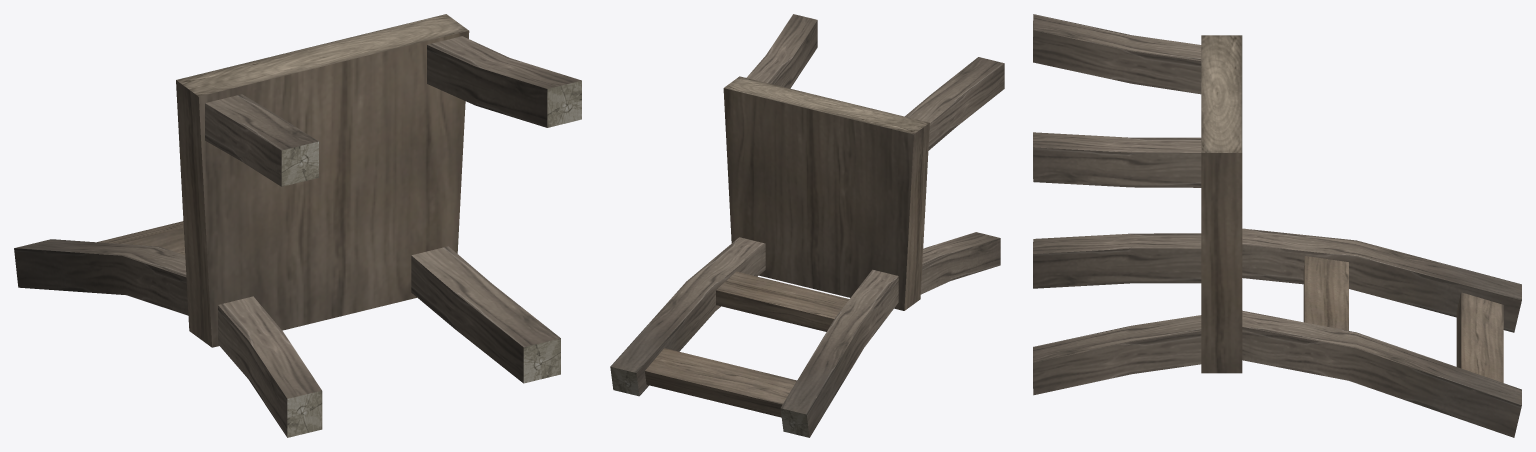
Rendered from Chair_B.fbx.
The picture shows the model from 3 angles, left to right: view 1: azimuth 30°, elevation 25°; view 2: azimuth 150°, elevation 25°; view 3: azimuth 270°, elevation 25°; orthographic projection. The views are drawn at different scales.
Parts seen in each view (by area): view 1: Chair_B; view 2: Chair_B; view 3: Chair_B.
Part boxes in pixels (x1,y1,x2,y2): Chair_B: (14,14,581,437); Chair_B: (610,14,1004,437); Chair_B: (1033,14,1521,437).
Bounding box in the file's own units: 0.8118 × 0.8692 × 1.29.
